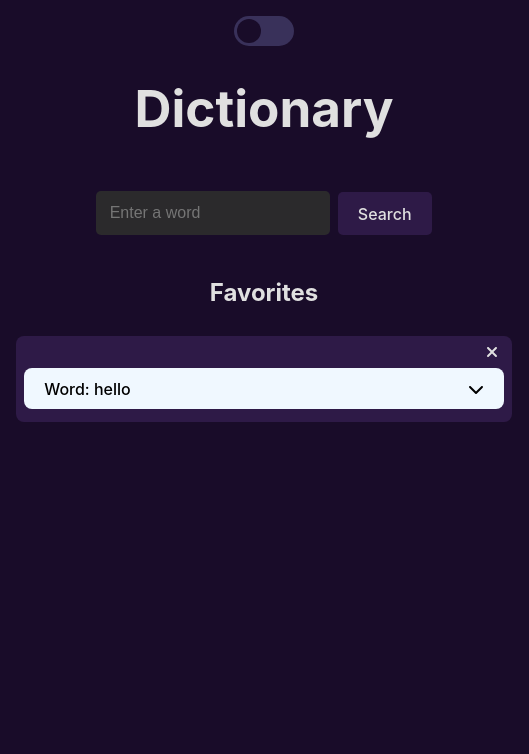
Test: handle favorites › should remove word from favorites
Click the button "Word: hello": (87, 389) [24, 368, 504, 409]
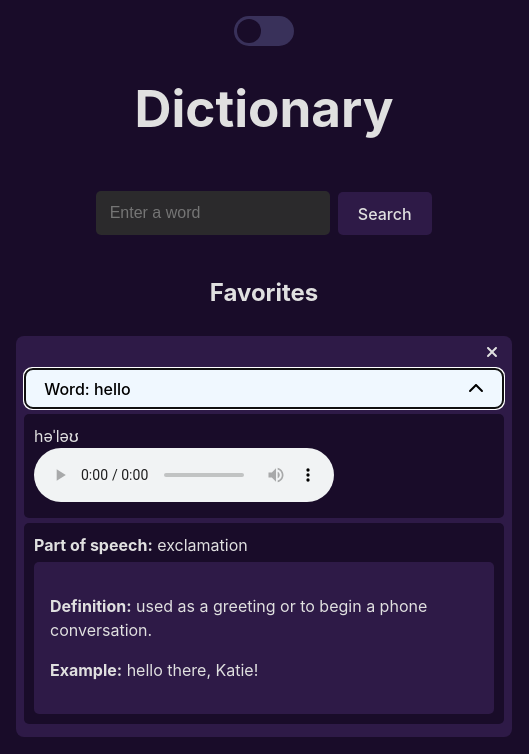
Click the button named "Remove from Favorites": (492, 352) [480, 336, 504, 368]
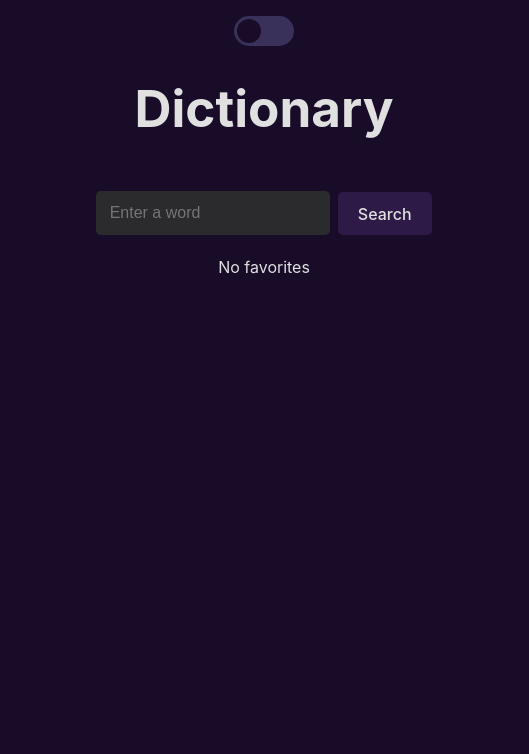
Check: the button "Word: hello" is gone
